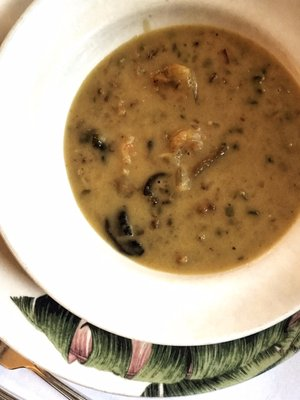sandwich: (61, 7, 300, 277)
